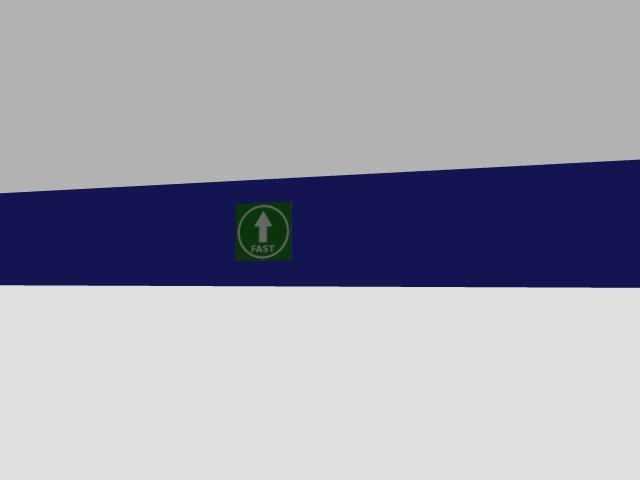fast: (236, 203, 291, 260)
